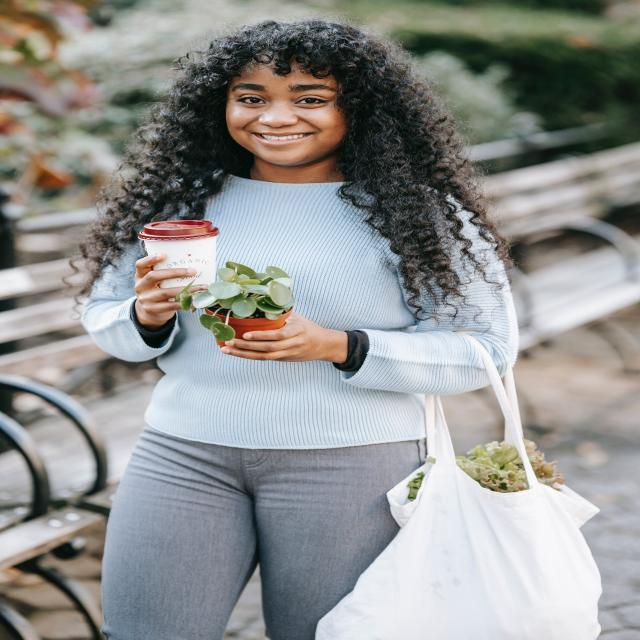cup: (136, 220, 220, 302)
